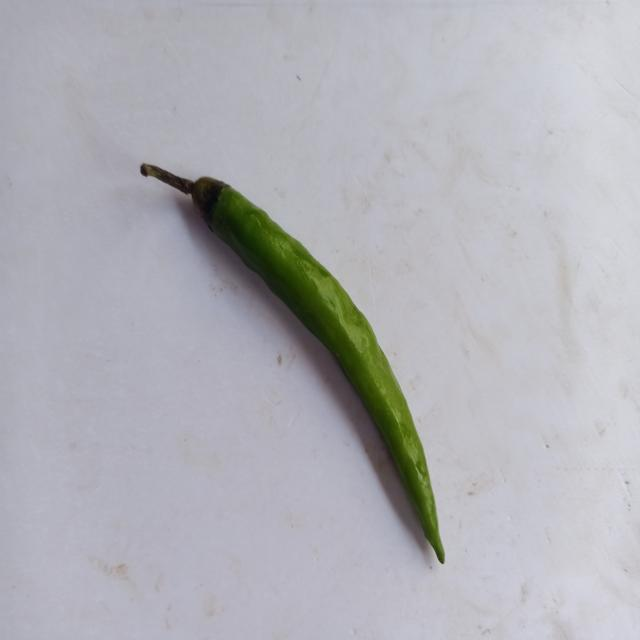Green Chilly: (140, 163, 445, 564)
